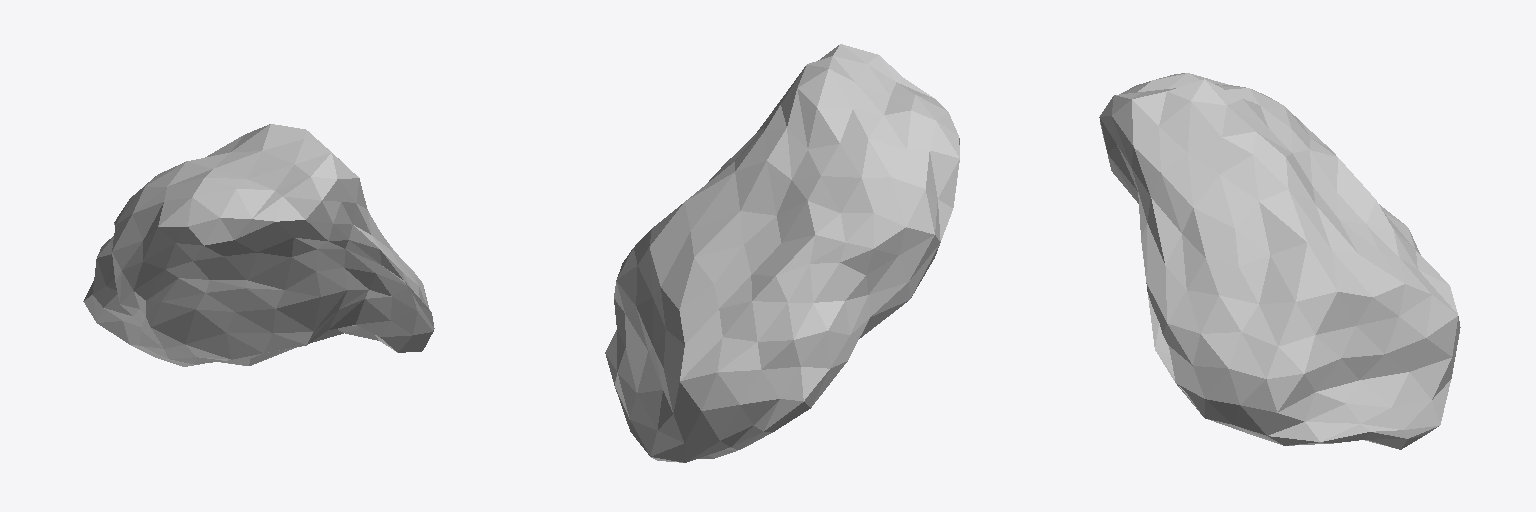
The model's file is asteroid18.obj.
3 views of the same model, side by side, from view 1: azimuth 30°, elevation 25°; view 2: azimuth 150°, elevation 25°; view 3: azimuth 270°, elevation 25° (orthographic).
Visible parts, largest first — view 1: asteroid; view 2: asteroid; view 3: asteroid.
Boxes of the visible parts, <box> form: asteroid: <box>83,124,434,366</box>; asteroid: <box>605,44,959,462</box>; asteroid: <box>1099,73,1460,449</box>.
Size of the model in its own units: 51.94 by 52.8 by 52.24.